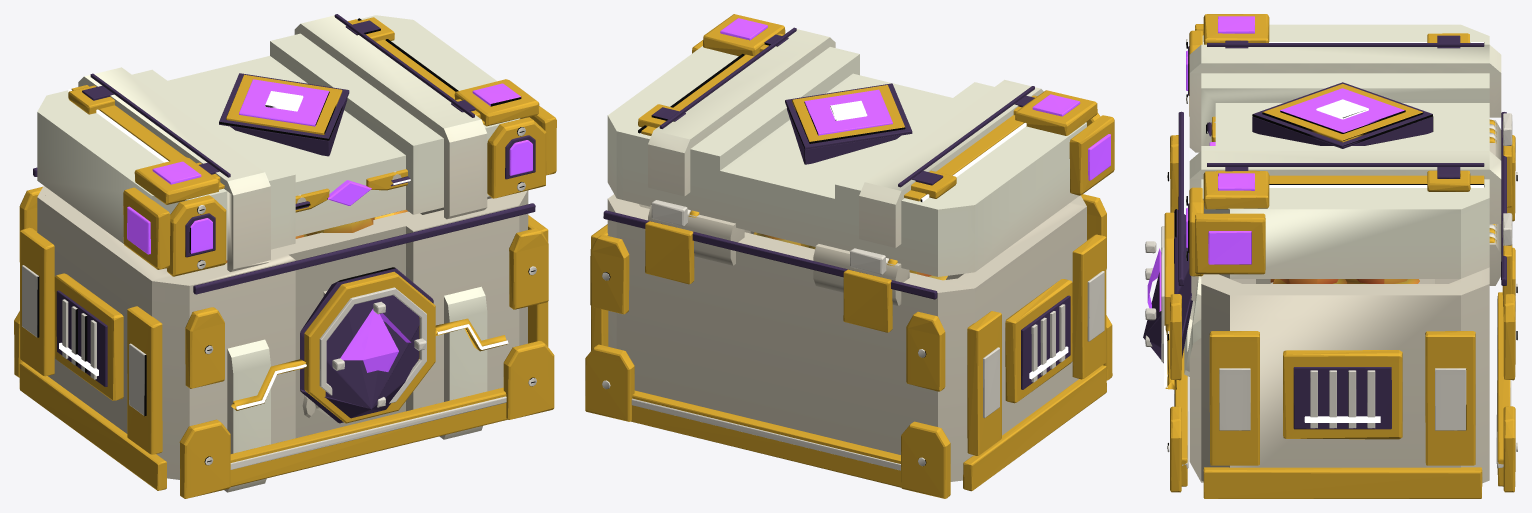
Rendered from aether-vault.glb.
The picture shows the model from 3 angles, left to right: view 1: azimuth 30°, elevation 25°; view 2: azimuth 150°, elevation 25°; view 3: azimuth 270°, elevation 25°; orthographic projection. The views are drawn at different scales.
Visible parts, largest first — view 1: Body, LidShell; view 2: Body, LidShell; view 3: Body, LidShell, CoinPile.
Boxes of the visible parts, <box> form: Body: <box>14,167,554,498</box>; LidShell: <box>37,14,556,276</box>; Body: <box>585,194,1112,498</box>; LidShell: <box>607,14,1114,276</box>; Body: <box>1143,111,1517,498</box>; LidShell: <box>1186,14,1512,278</box>; CoinPile: <box>1270,279,1419,283</box>.
Bounding box in the file's own units: 2.2 × 1.61 × 1.71.
Materials: 2 (2 with a texture image).
